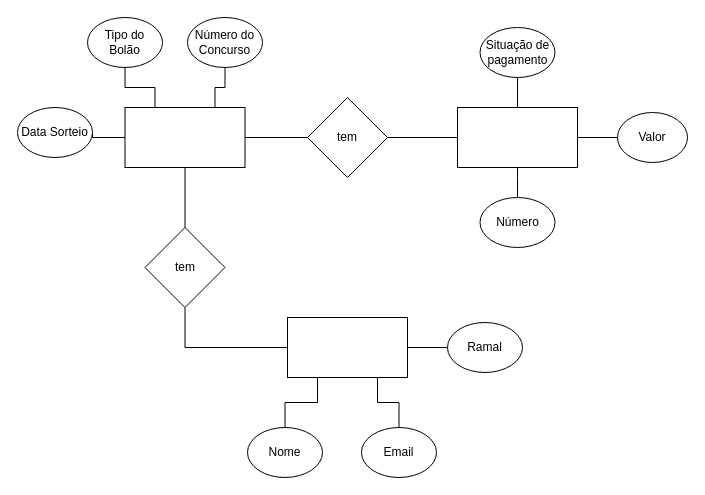
Image size: 705x495. Some labels were removed from this diagram. Here are the shapes that lost their labels. From the top down, the centre of each, then its label:
the point at 184,137: Bolão
the point at 517,137: Cotas
the point at 347,347: Apostadores
